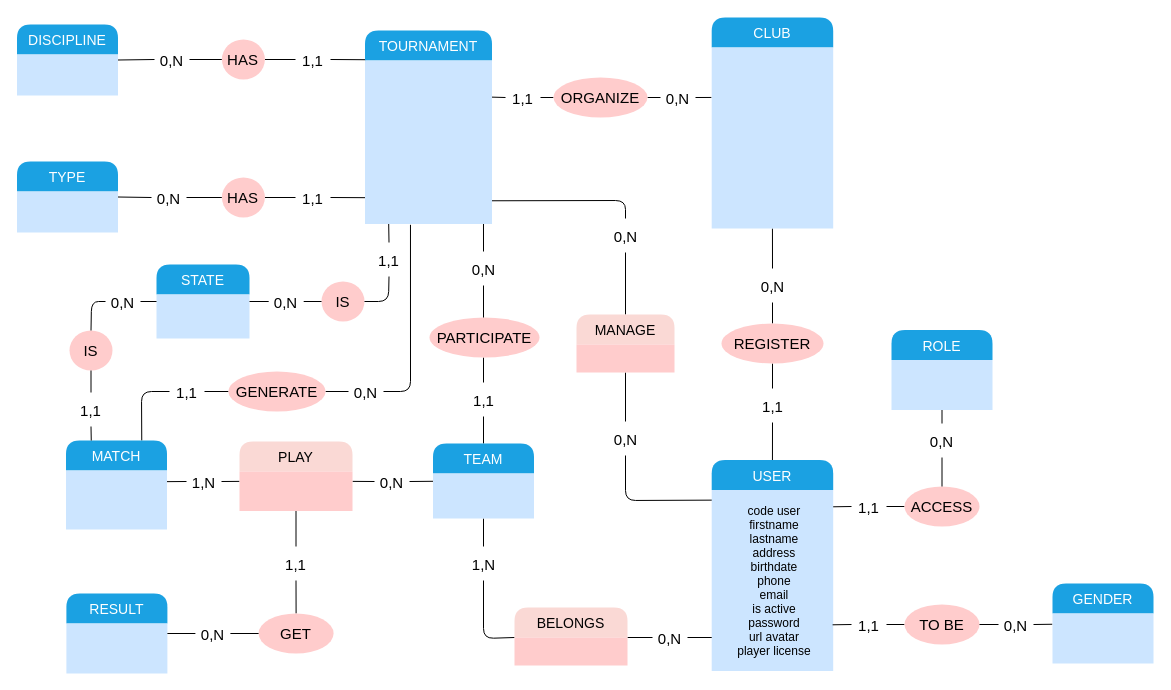
The diagram is 1171 pixels wide and 690 high, and some of its shapes have lost their labels. Here are the shapes that lost their labels. From the top down, the centre of each, then its label:
At (67,74): "code discipline name".
At (428,142): "code tournament title date description picture url nb playground player limit".
At (772,137): "code club name address phone email logo url website club ref description".
At (67,211): "code type name".
At (202,316): "code state name".
At (941,385): "code role name".
At (116,499): "code match note".
At (295,490): "is winner".
At (483,495): "code team".
At (116,648): "code result score".
At (1102,638): "code gender name".
